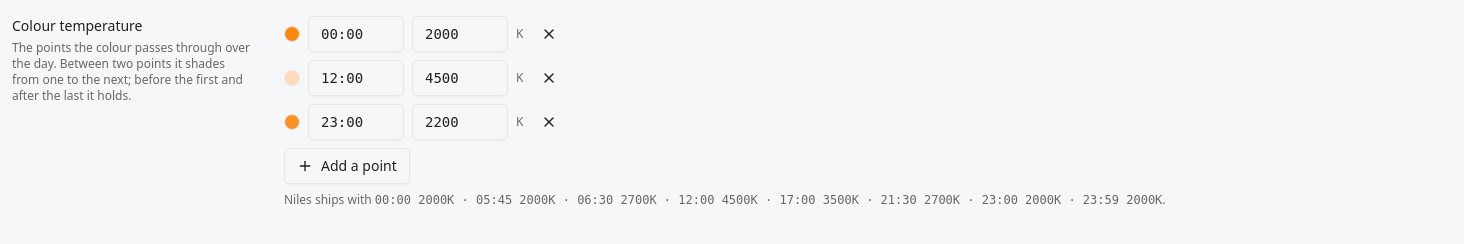
Test case: AnchorEditor › refuses a kelvin outside what the scheduler accepts
Replace the text in the field named "Point 2 kelvin" with "12000" at (460, 78), box [412, 60, 508, 96]
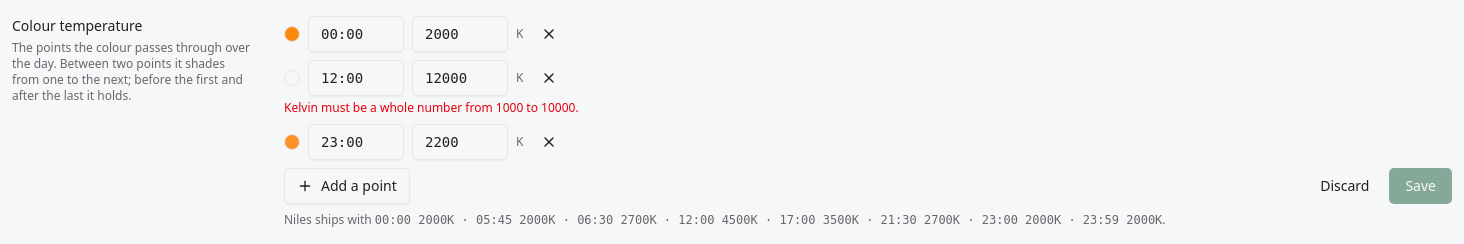
Check: the text "Kelvin must be a whole number from 1000 to 10000." is shown, box [284, 99, 579, 116]
Check: the button "Save" is disabled, box [1389, 168, 1452, 204]
